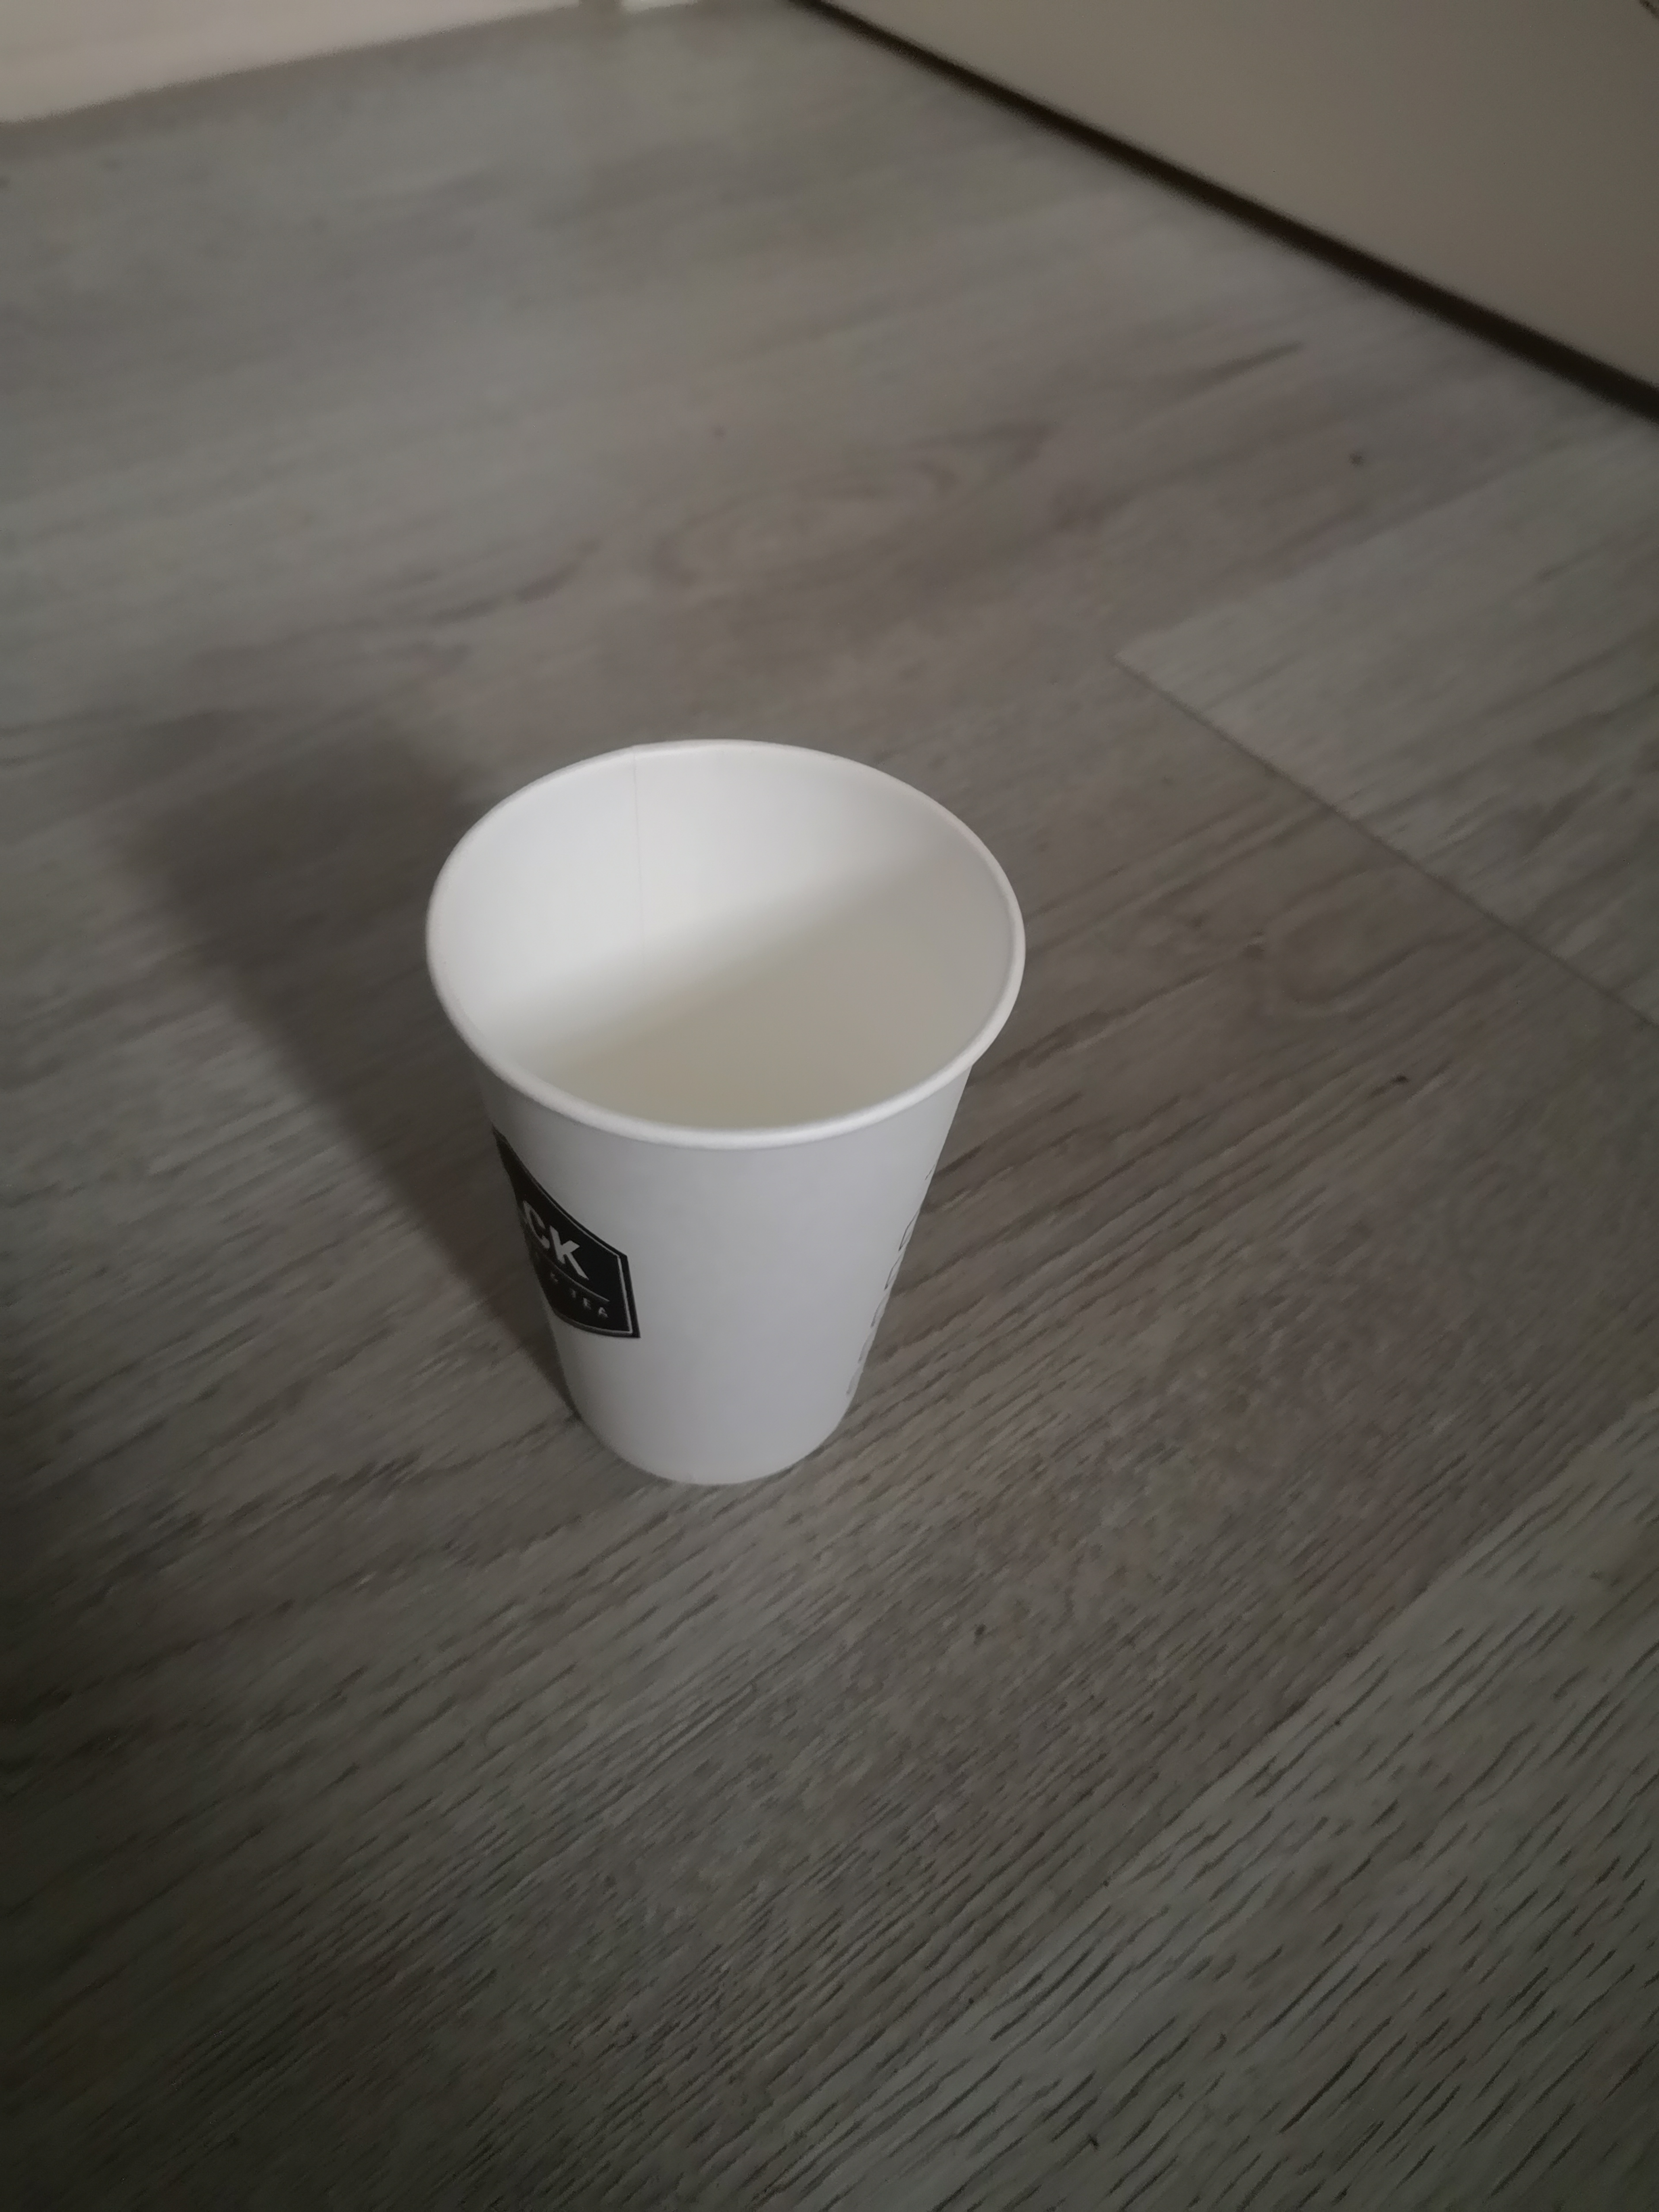cup: (382, 705, 1068, 1503)
